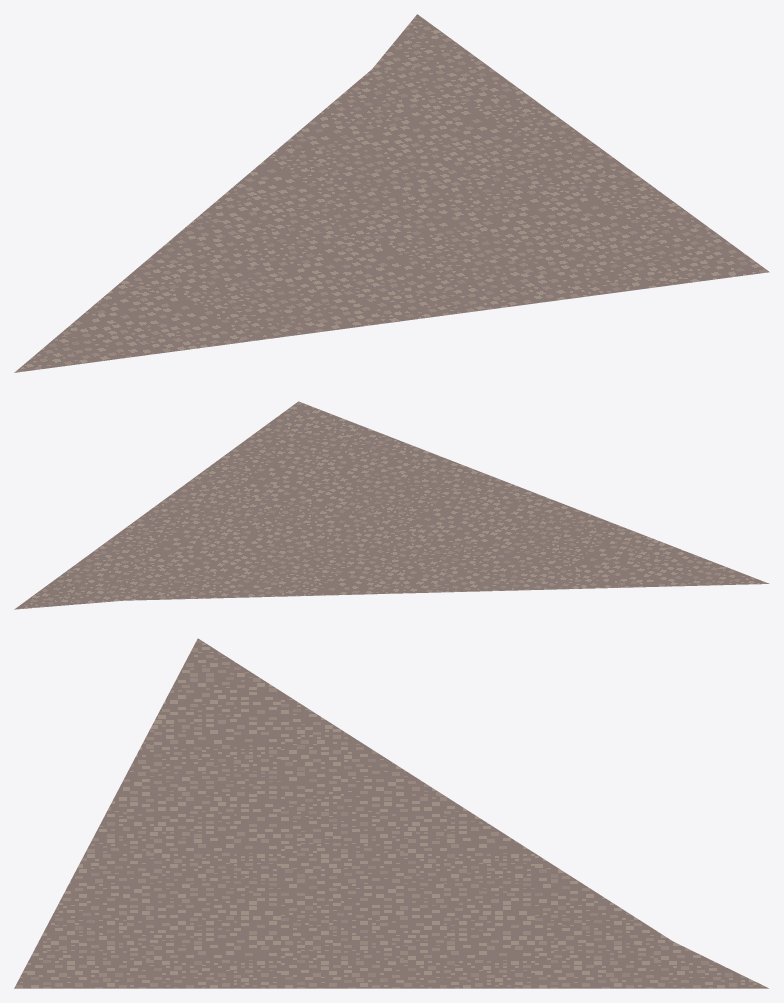
File: kd_stage_135ebf_3_10_bounded.glb
3 views of the same model, one above another, from view 1: azimuth 30°, elevation 25°; view 2: azimuth 150°, elevation 25°; view 3: azimuth 270°, elevation 25° (orthographic). The views are drawn at different scales.
Visible parts, largest first — view 1: kd_stage_135ebf_3_10_bounded; view 2: kd_stage_135ebf_3_10_bounded; view 3: kd_stage_135ebf_3_10_bounded.
Part boxes in pixels (x1,y1,x2,y2): kd_stage_135ebf_3_10_bounded: [14, 14, 769, 372]; kd_stage_135ebf_3_10_bounded: [14, 401, 769, 609]; kd_stage_135ebf_3_10_bounded: [14, 638, 768, 988].
Size of the model in its own units: 2.84 by 0 by 2.59.
1 material, 1 textured.
